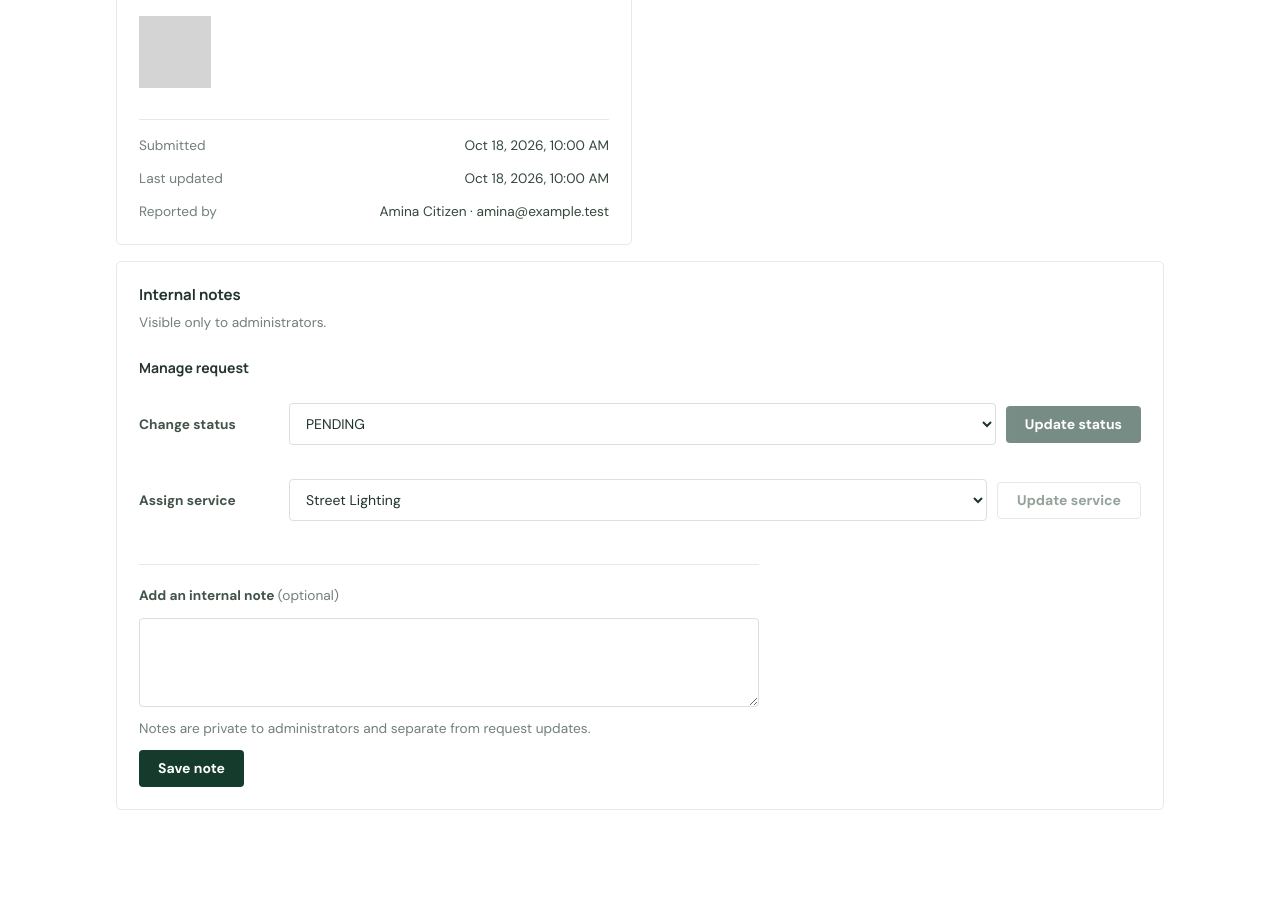
Scenario: administrator request controls › blocks repeated note submissions and restores the button after a failed save
The width and height of the screenshot is (1280, 900).
(page scrolled)
Step 1. Type "Maintenance team contacted." into the text box labelled "Add an internal note (optional)" → (449, 662), box [139,618,759,707]
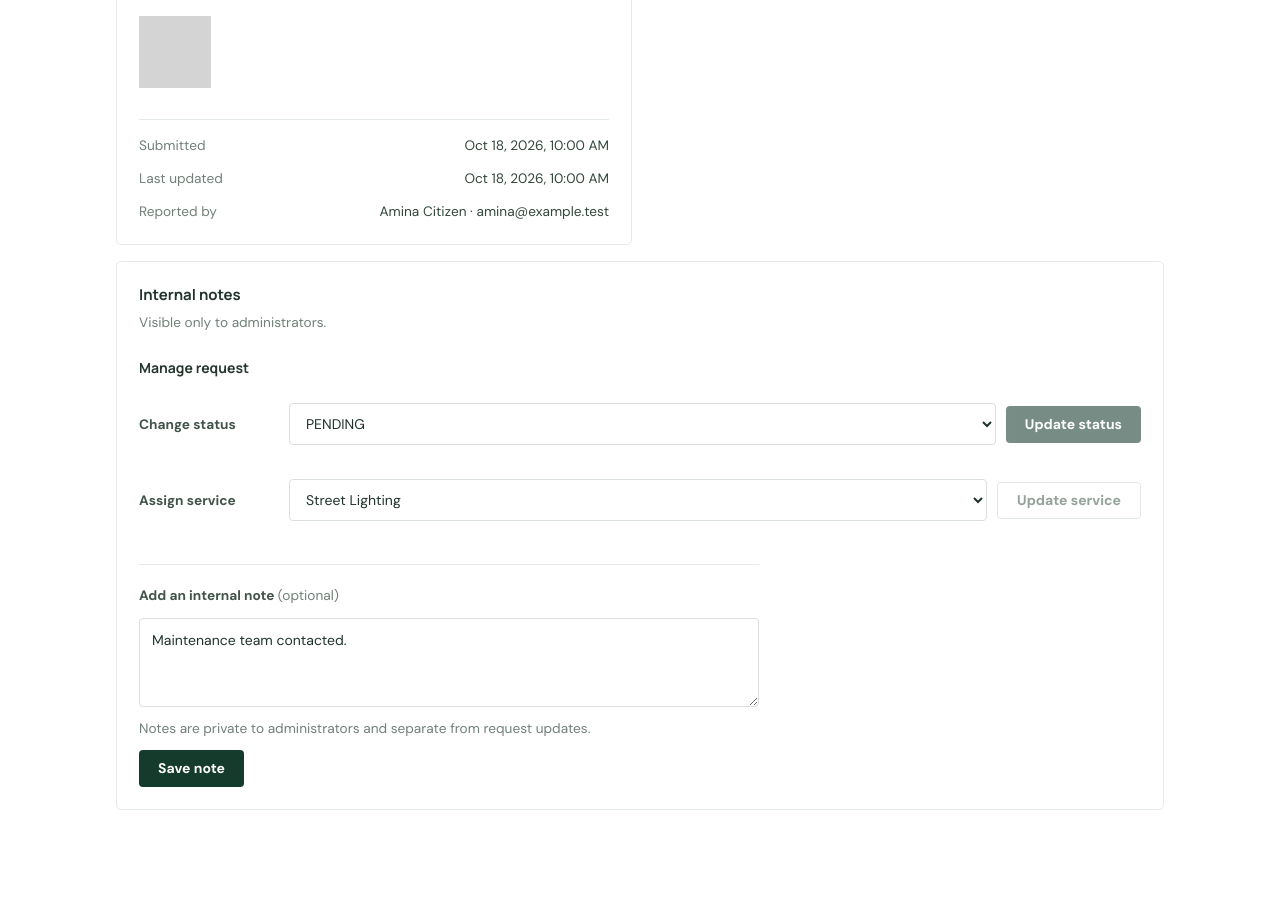
Step 2. Click the button "Save note" → (192, 768), box [139,750,244,787]
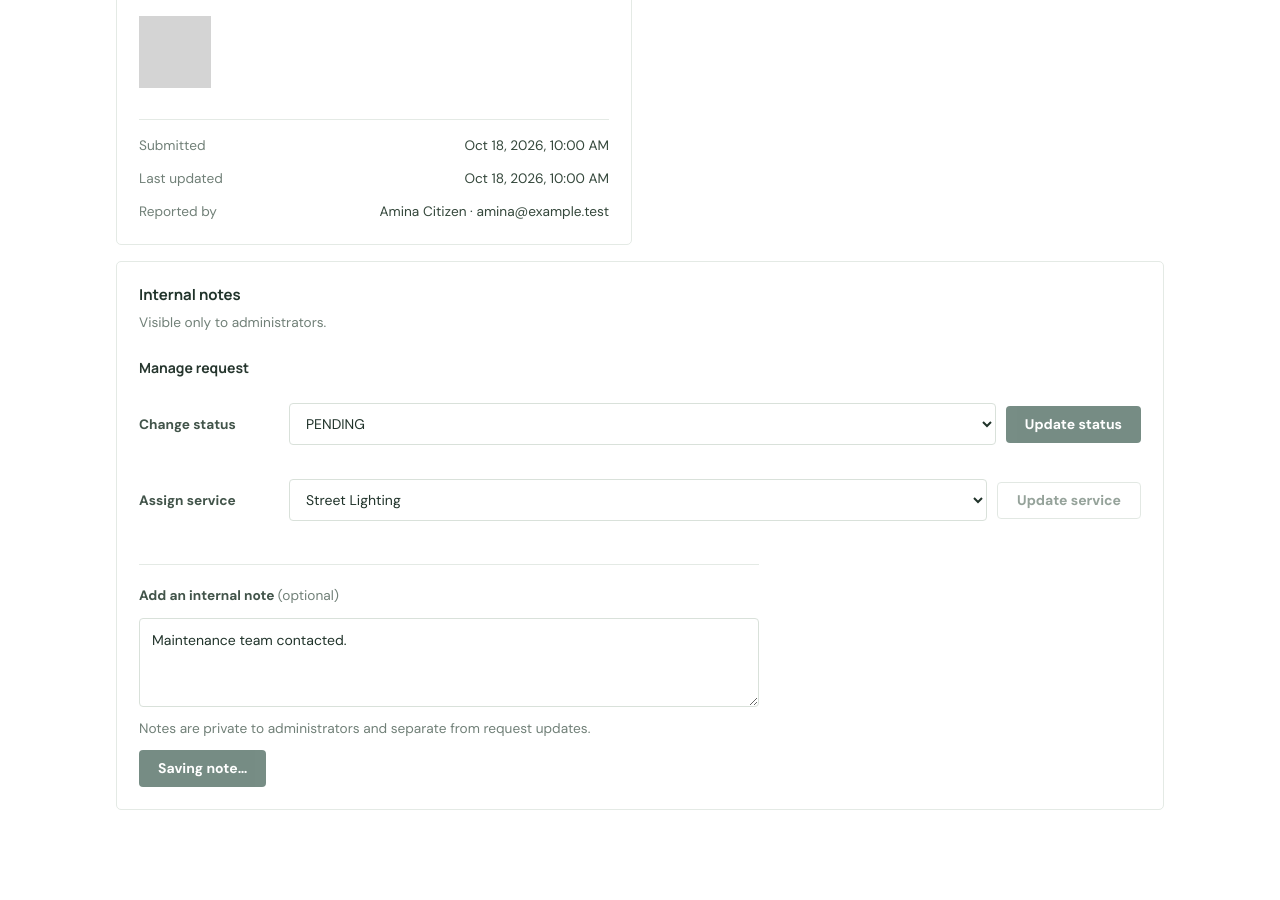
expect the button "Saving note…" is disabled: met
Step 3. Click the button "Saving note…" → (203, 768), box [139,750,266,787]
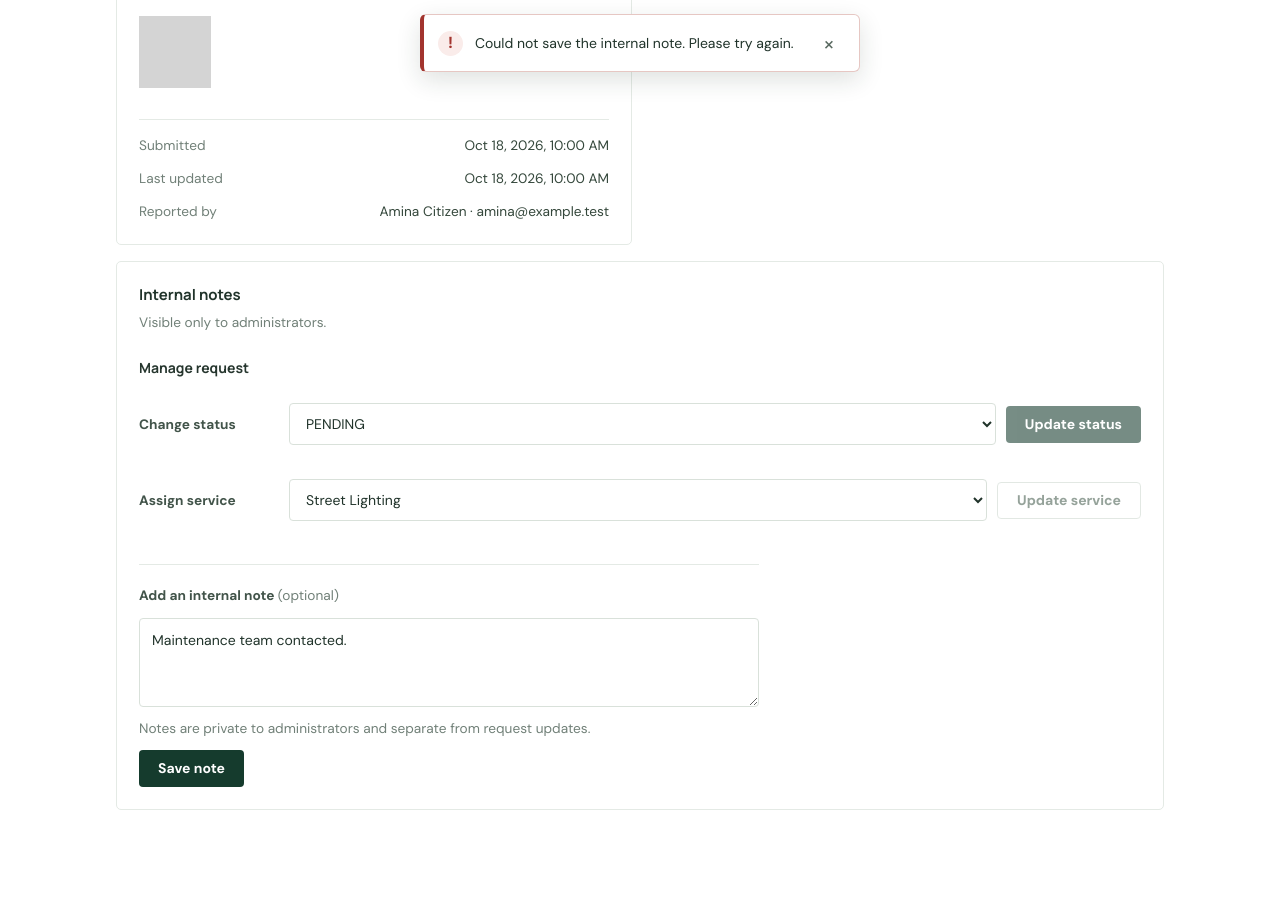
expect the message shows "Could not save the internal note. Please try again.": met, box [475,34,794,52]
expect the button "Save note" is enabled: met, box [139,750,244,787]
